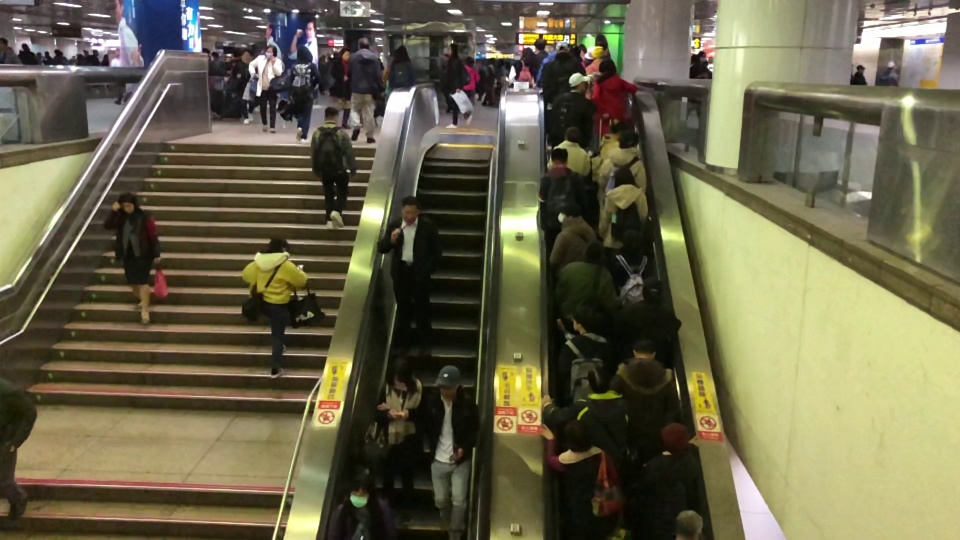person_head: (569, 295, 606, 335), (344, 465, 376, 509), (433, 363, 462, 403), (562, 418, 594, 454), (658, 422, 690, 456), (672, 507, 704, 540), (387, 356, 415, 392), (556, 191, 586, 224), (586, 364, 612, 395), (581, 238, 607, 268), (640, 275, 665, 305), (620, 228, 645, 258), (630, 336, 657, 362), (400, 196, 421, 225), (611, 166, 635, 189), (615, 127, 639, 149), (117, 191, 137, 214), (266, 236, 290, 255), (568, 73, 590, 93), (549, 147, 569, 168), (597, 58, 616, 79), (610, 121, 629, 139), (295, 45, 313, 64), (322, 106, 339, 125), (583, 46, 598, 66), (564, 126, 581, 143), (520, 46, 535, 65), (392, 45, 409, 61), (554, 40, 570, 56), (263, 44, 278, 59), (533, 37, 548, 51), (590, 46, 606, 59), (339, 46, 351, 61), (357, 37, 370, 50), (446, 43, 458, 56), (239, 49, 251, 62), (577, 43, 587, 57), (886, 59, 897, 71), (855, 63, 866, 75), (697, 50, 707, 63), (210, 49, 220, 62), (0, 36, 9, 50), (464, 56, 474, 68), (689, 52, 698, 65), (21, 41, 30, 53), (487, 57, 496, 67), (53, 48, 63, 57), (496, 58, 505, 67), (442, 53, 449, 63), (114, 48, 121, 58), (318, 54, 325, 63), (225, 55, 232, 63), (479, 59, 485, 68), (43, 50, 50, 57), (82, 49, 89, 56), (92, 49, 98, 56), (103, 53, 109, 60), (76, 53, 82, 60)
person_vbox: (539, 364, 647, 480), (374, 196, 443, 376), (536, 419, 625, 540), (423, 363, 481, 540), (240, 236, 308, 380), (606, 336, 681, 462), (374, 356, 428, 526), (628, 421, 703, 540), (103, 191, 161, 325), (554, 295, 621, 409), (616, 275, 682, 368), (550, 238, 618, 323), (310, 106, 356, 230), (0, 374, 38, 521), (325, 465, 396, 540), (537, 147, 592, 240), (606, 227, 657, 319), (547, 190, 600, 276), (597, 166, 648, 255), (538, 40, 586, 134), (346, 37, 383, 145), (589, 57, 639, 136), (544, 72, 595, 149), (597, 127, 647, 196), (244, 43, 281, 134), (287, 45, 321, 142), (444, 43, 472, 129), (546, 127, 590, 177), (328, 46, 352, 129), (685, 50, 712, 122), (231, 48, 255, 125), (598, 120, 629, 165), (387, 44, 417, 88), (208, 49, 226, 118), (508, 46, 535, 87), (527, 37, 548, 83), (461, 56, 480, 106), (480, 57, 497, 107), (492, 58, 508, 109), (535, 49, 557, 86), (439, 53, 452, 113), (110, 47, 122, 105), (877, 58, 899, 87), (584, 46, 606, 75), (0, 36, 22, 65), (16, 41, 38, 65), (474, 59, 486, 101), (318, 54, 329, 96), (47, 48, 70, 65), (850, 63, 866, 85), (100, 53, 110, 88), (577, 43, 587, 66), (89, 49, 101, 66), (81, 49, 92, 66), (41, 50, 52, 66), (75, 53, 82, 66)
